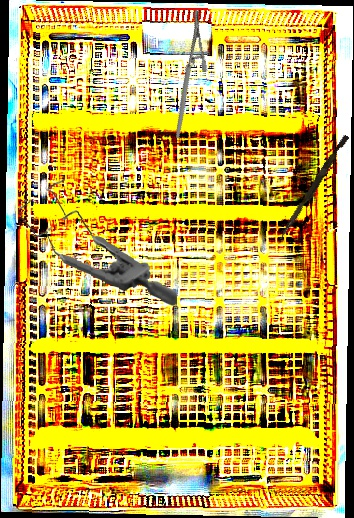Needle Holder: (136, 6, 238, 140)
Pusher: (278, 132, 350, 243)
Speculum: (13, 176, 185, 307)
